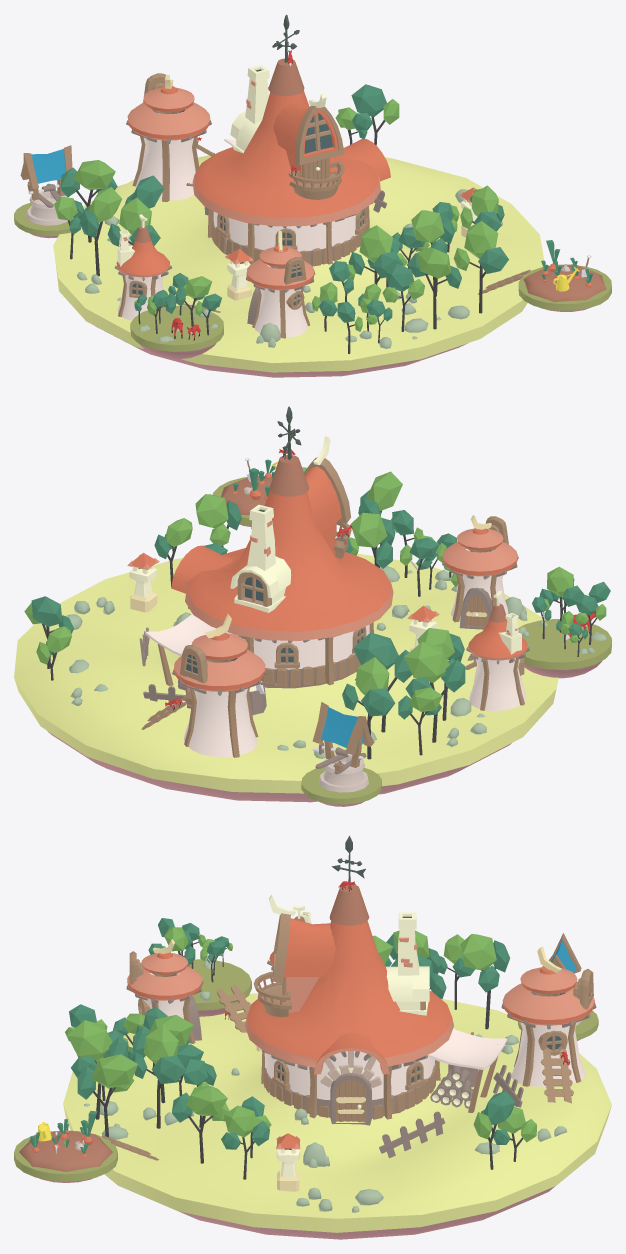
The model's file is isalnd-CPHEm8wm.glb.
The picture shows the model from 3 angles, top to bottom: view 1: azimuth 30°, elevation 25°; view 2: azimuth 150°, elevation 25°; view 3: azimuth 270°, elevation 25°; orthographic projection. The views are drawn at different scales.
Parts seen in each view (by area): view 1: island; view 2: island; view 3: island.
Boxes of the visible parts, x1,y1,x2,y2 form: island: [14, 14, 611, 377]; island: [14, 406, 611, 806]; island: [14, 835, 611, 1239].
Size of the model in its own units: 94.36 by 62.48 by 101.
1 material, 1 textured.
